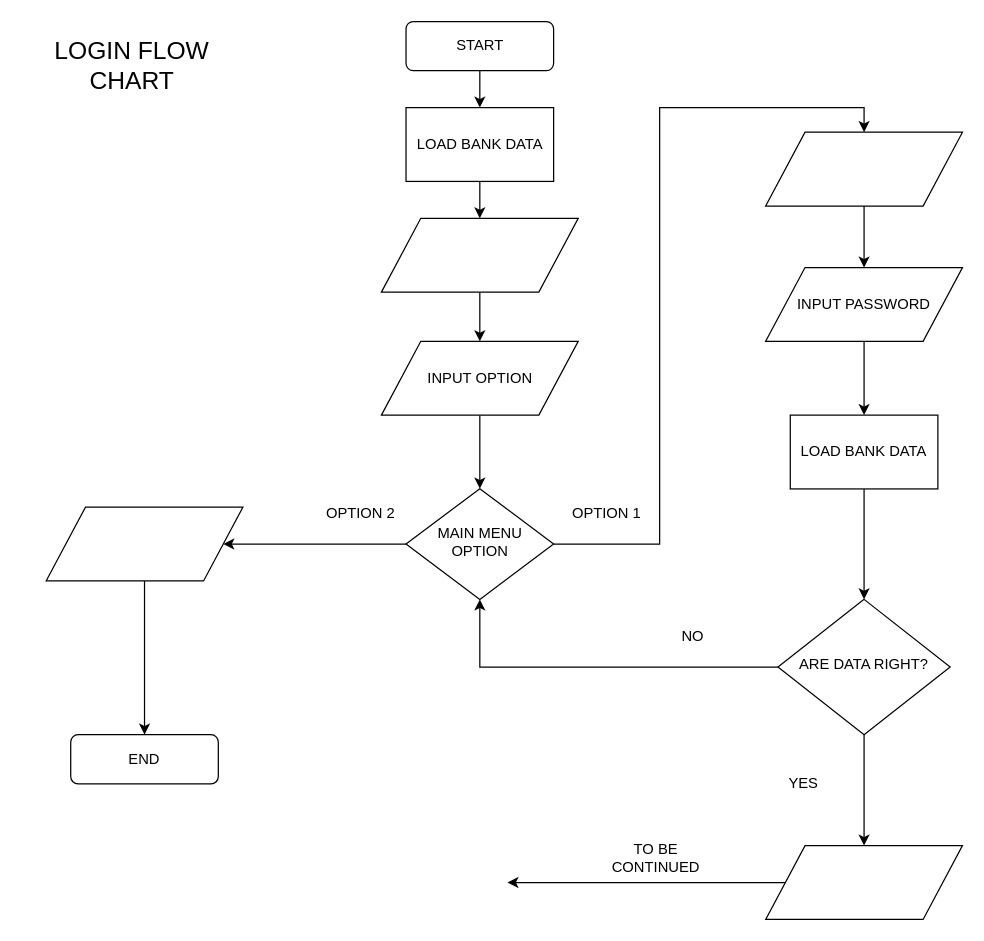
Some shapes in this 984 by 941 pixel diagram are drawn without their labels. Each missing label, with the centre of its shape:
DISPLAY EXIT MESSAGE: the point at 144,543
DISPLAY OPTIONS: the point at 479,254
DISPLAY OPTIONS AVAILABLE: the point at 863,881
INPUT USERNAME: the point at 863,168
